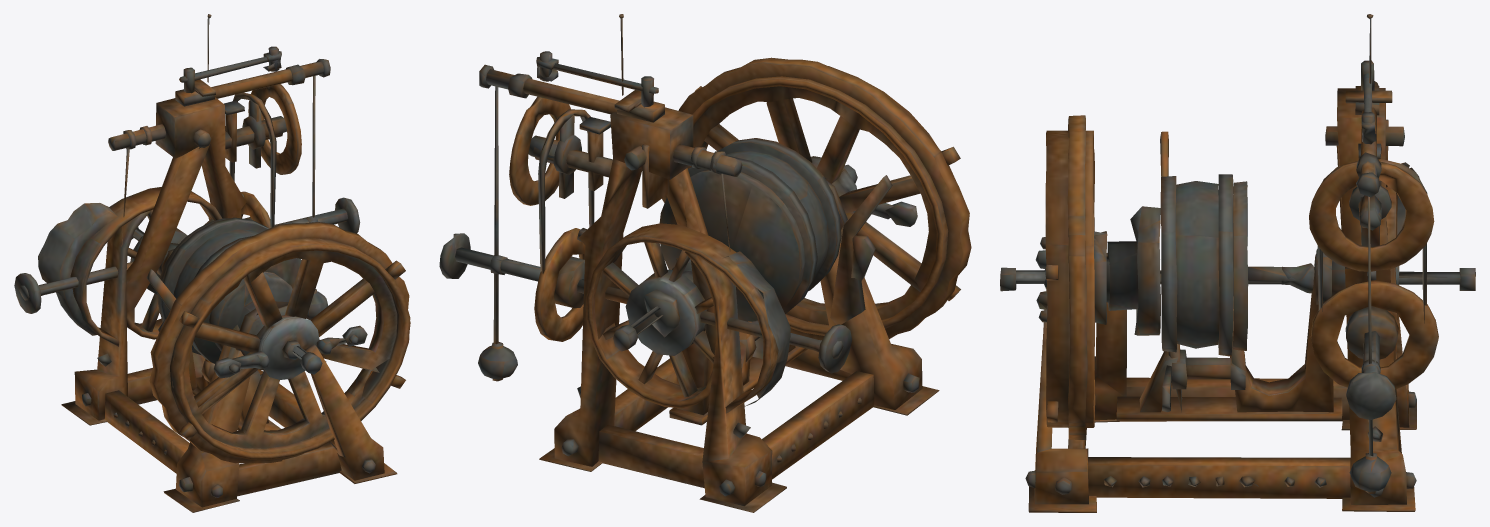
Rendered from clockwork.glb.
3 renders of one model, left to right at view 1: azimuth 30°, elevation 25°; view 2: azimuth 150°, elevation 25°; view 3: azimuth 270°, elevation 25°, orthographic. The views are drawn at different scales.
Parts seen in each view (by area): view 1: clockwork; view 2: clockwork; view 3: clockwork.
Boxes of the visible parts, x1,y1,x2,y2 form: clockwork: [14, 14, 410, 512]; clockwork: [439, 14, 971, 512]; clockwork: [1000, 14, 1475, 512].
Size of the model in its own units: 0.9154 by 1 by 0.9256.
Materials: 1 (1 with a texture image).
